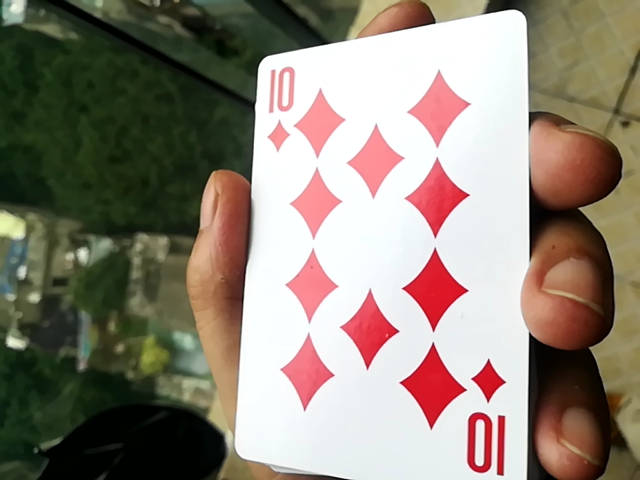fk 10: (243, 19, 541, 479)
